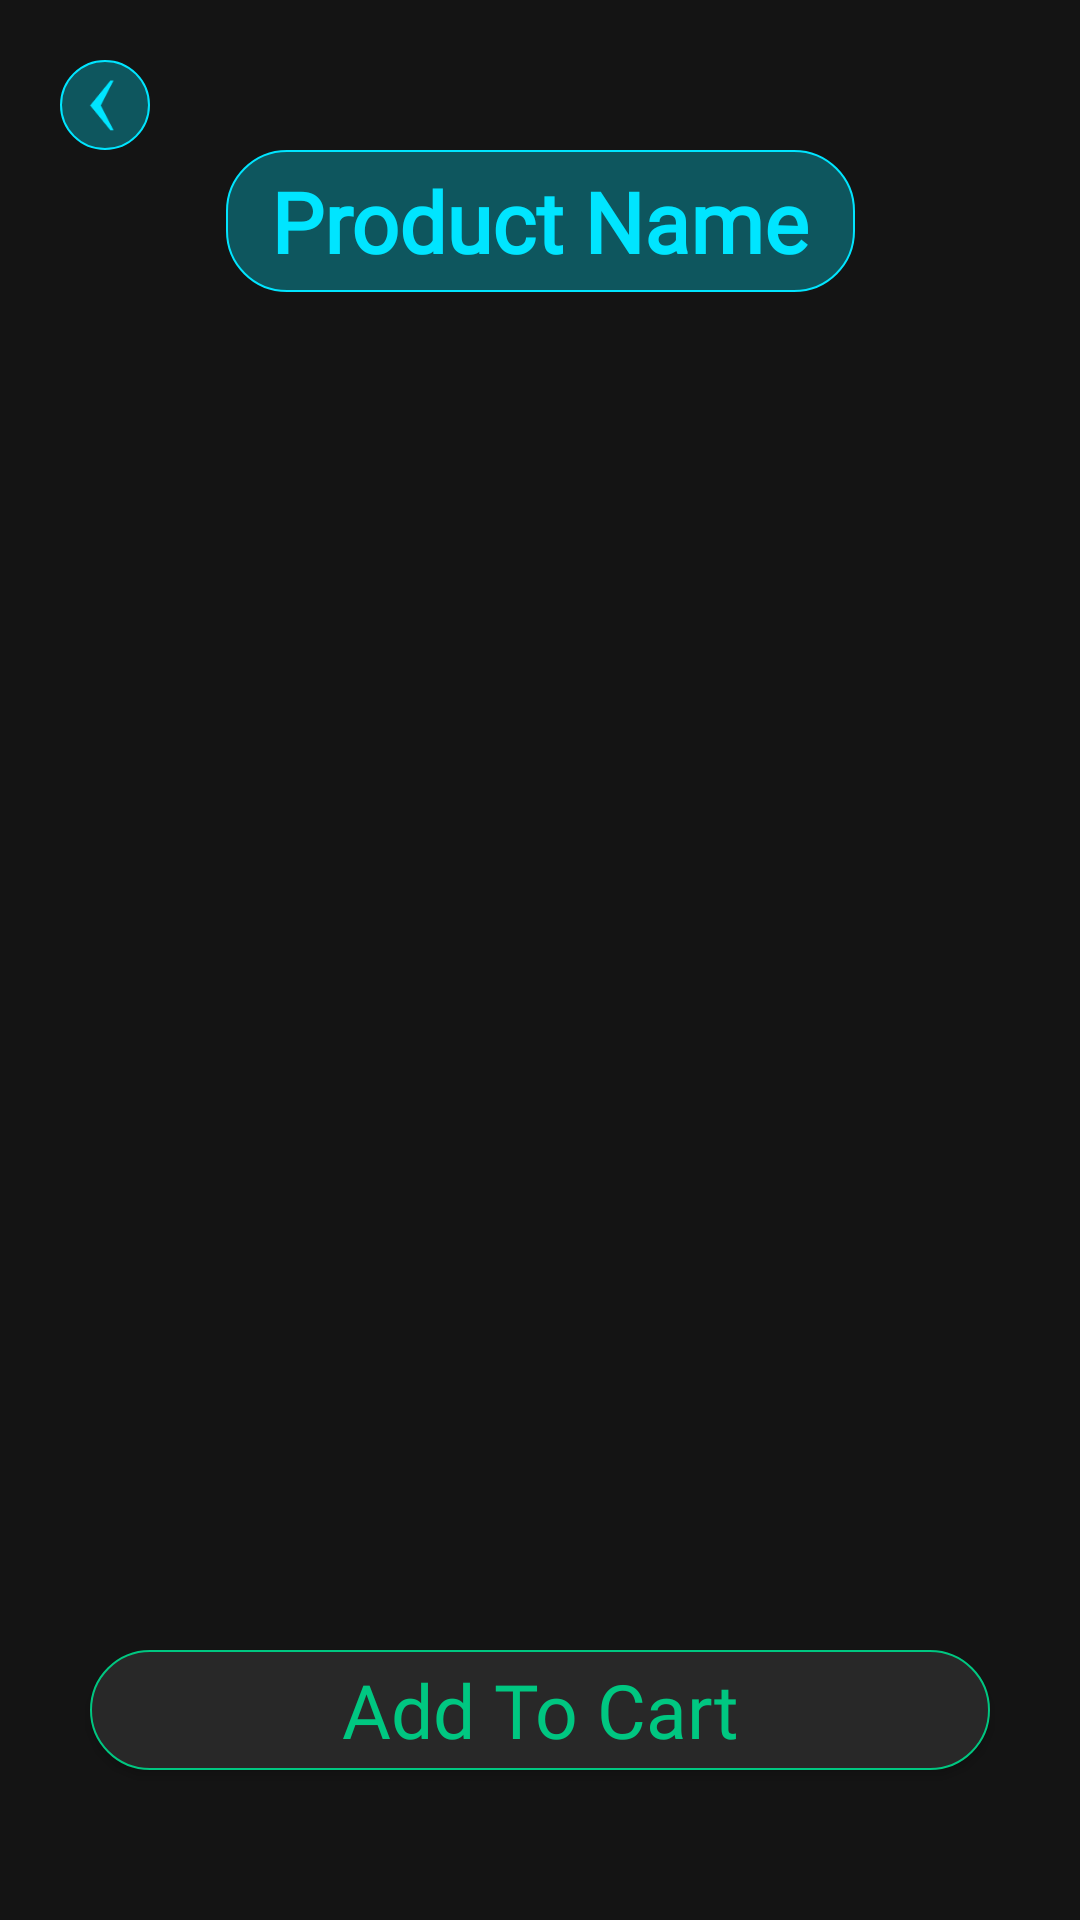

Point at icon controls on the screen. Image size 1080 × 1920, points as (x=x, y=y).
back: (x=102, y=105)
